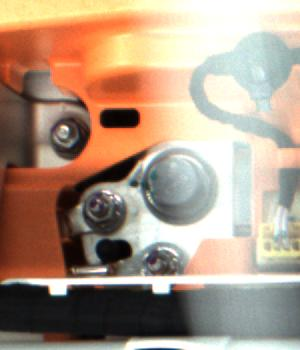nut_b: (136, 142, 219, 229)
screw_s: (77, 189, 130, 234), (43, 113, 89, 154), (134, 242, 185, 277)
